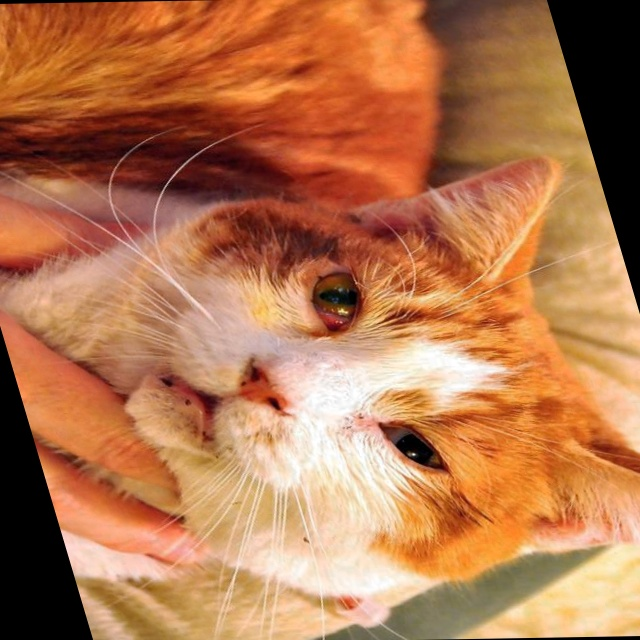eye_infection: (295, 268, 378, 337), (372, 416, 448, 471)
